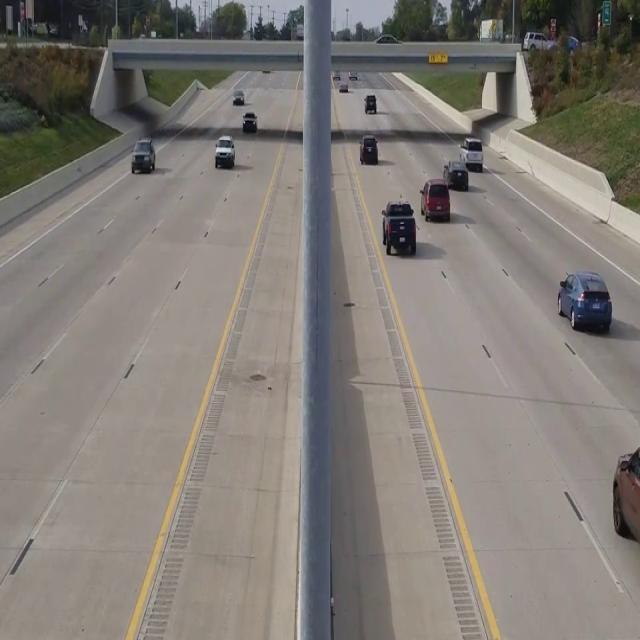car: (612, 435, 640, 591), (557, 270, 612, 333), (381, 200, 417, 256), (420, 179, 450, 220), (459, 136, 483, 171), (130, 139, 154, 173), (443, 158, 468, 190), (214, 135, 235, 168), (359, 135, 378, 164), (243, 110, 257, 133), (365, 94, 376, 112)
